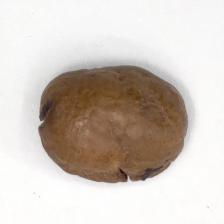NG: (62, 162, 173, 185), (36, 92, 56, 137)
